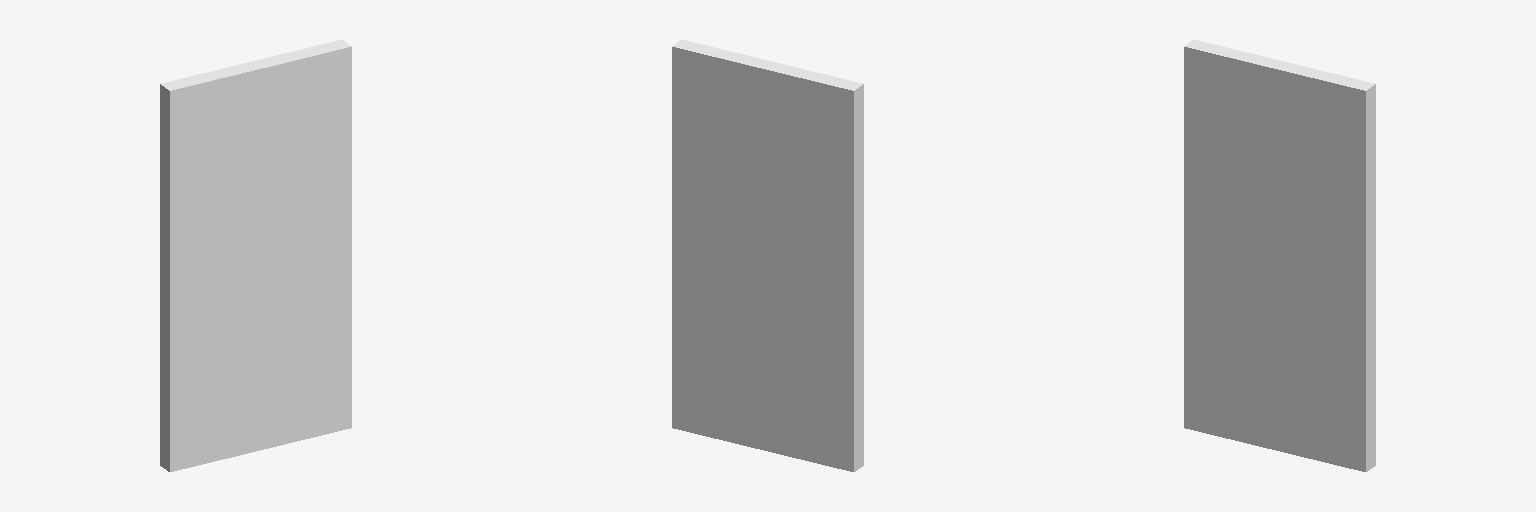
The model's file is Wall.obj.
3 views of the same model, side by side, from view 1: azimuth 30°, elevation 25°; view 2: azimuth 150°, elevation 25°; view 3: azimuth 330°, elevation 25° (orthographic).
Parts seen in each view (by area): view 1: Wall_-8; view 2: Wall_-8; view 3: Wall_-8.
Part boxes in pixels (x1,y1,x2,y2): Wall_-8: (160,40,351,471); Wall_-8: (672,40,863,471); Wall_-8: (1184,40,1375,471).
Bounding box in the file's own units: 1 × 2 × 0.0938.